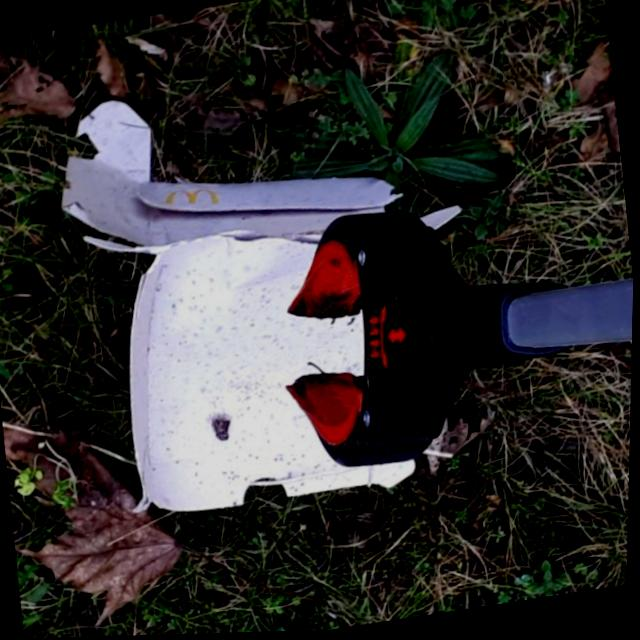Paper: (40, 44, 501, 538)
